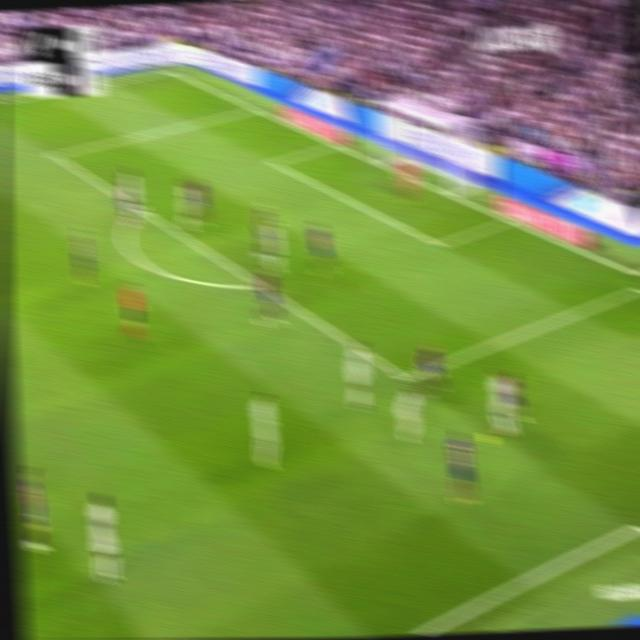bigarea_bottom_inner: (396, 363, 416, 390)
bigarea_top_inner: (47, 145, 64, 164)
bigarea_top_outter: (246, 100, 260, 115)
bottom_arc_area_intersection: (254, 277, 267, 293)
corner: (162, 64, 177, 75)
smallarea_bottom_inner: (430, 232, 447, 255)
smallarea_top_inner: (267, 155, 280, 169)
top_arc_area_intersection: (130, 197, 147, 217)
